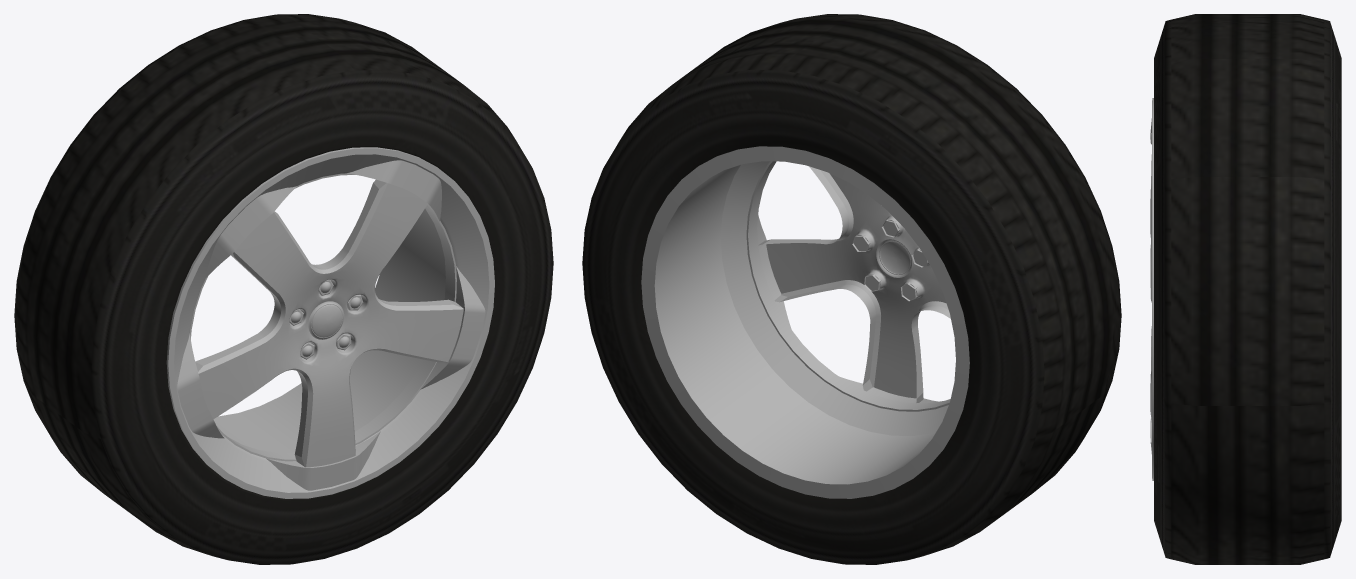
3 renders of one model, left to right at view 1: azimuth 30°, elevation 25°; view 2: azimuth 150°, elevation 25°; view 3: azimuth 270°, elevation 25°, orthographic.
Visible parts, largest first — view 1: Y191_13_901B_R_2_DM_Y191_13_901B_R, Y191_13_901B_R_Y191_13_901B_R_1_DaS; view 2: Y191_13_901B_R_2_DM_Y191_13_901B_R, Y191_13_901B_R_Y191_13_901B_R_1_DaS; view 3: Y191_13_901B_R_2_DM_Y191_13_901B_R, Y191_13_901B_R_Y191_13_901B_R_1_DaS.
Boxes of the visible parts, x1,y1,x2,y2 form: Y191_13_901B_R_2_DM_Y191_13_901B_R: (14,14,553,564); Y191_13_901B_R_Y191_13_901B_R_1_DaS: (166,147,494,498); Y191_13_901B_R_2_DM_Y191_13_901B_R: (582,14,1121,564); Y191_13_901B_R_Y191_13_901B_R_1_DaS: (641,146,969,498); Y191_13_901B_R_2_DM_Y191_13_901B_R: (1154,14,1341,564); Y191_13_901B_R_Y191_13_901B_R_1_DaS: (1150,98,1153,480).
Bounding box in the file's own units: 60.4 × 60.4 × 20.95.
